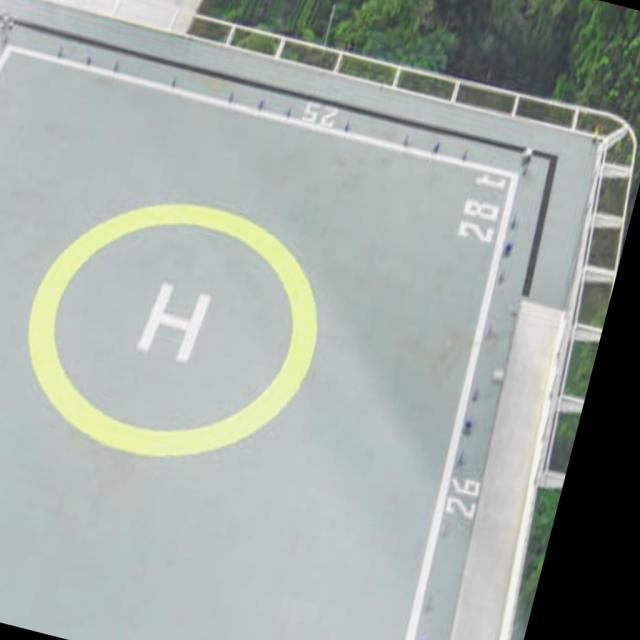helipad: (22, 198, 320, 463)
